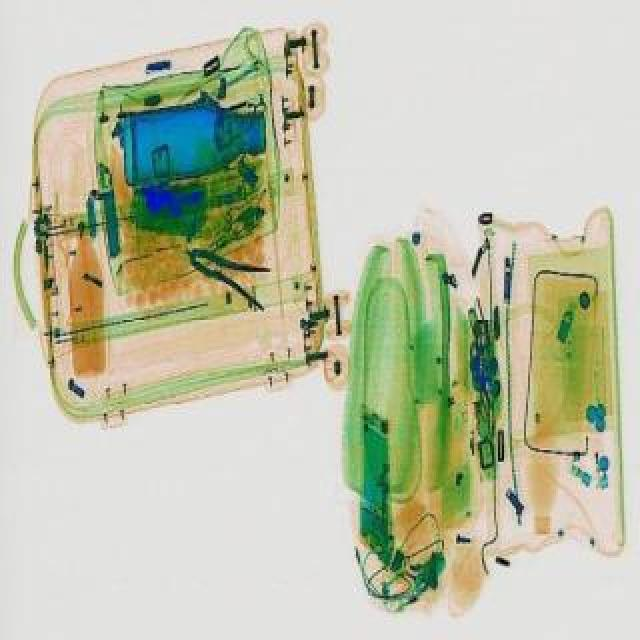wrench: (178, 230, 284, 310)
